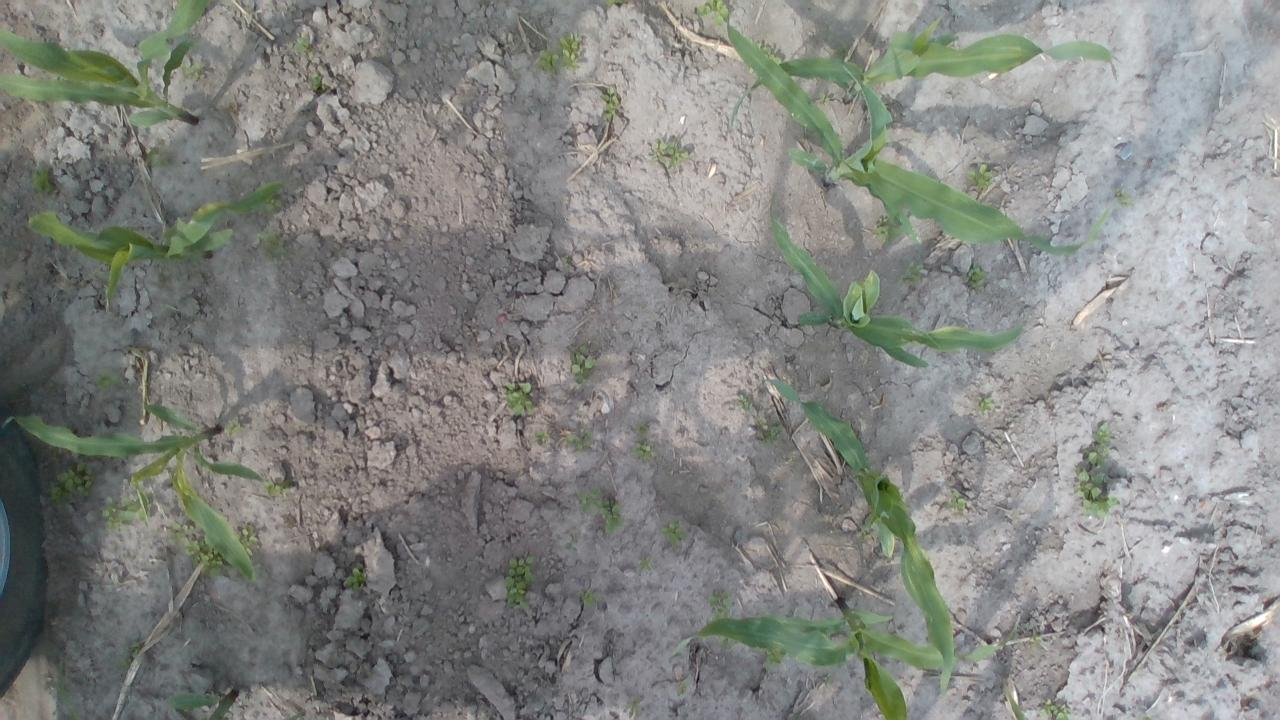Maize: (723, 14, 1122, 260), (759, 374, 958, 700), (0, 402, 277, 590), (767, 198, 1030, 373), (25, 178, 288, 317), (669, 616, 1002, 714), (2, 0, 222, 130), (171, 687, 241, 719)
Weeds: (162, 522, 259, 577), (1078, 424, 1120, 516), (98, 478, 152, 530), (53, 652, 88, 717), (44, 467, 91, 510), (536, 32, 582, 72), (504, 556, 534, 612), (580, 496, 621, 527), (649, 139, 690, 168), (749, 37, 786, 65), (504, 384, 534, 415), (752, 423, 782, 452), (175, 54, 208, 80), (696, 0, 730, 22), (258, 232, 284, 260), (710, 591, 734, 620), (603, 84, 621, 121), (634, 428, 654, 461), (148, 148, 175, 170), (574, 352, 596, 378), (662, 521, 690, 540), (343, 570, 369, 590), (570, 431, 592, 453), (904, 261, 926, 283), (969, 164, 993, 184), (33, 168, 53, 190), (1044, 705, 1072, 720), (94, 371, 117, 388), (266, 479, 288, 496), (874, 219, 893, 238), (968, 269, 986, 289), (954, 491, 968, 514), (768, 650, 788, 666), (292, 37, 309, 55), (981, 394, 996, 410), (309, 76, 323, 92), (741, 395, 754, 412), (638, 559, 652, 573), (582, 589, 592, 606), (536, 434, 546, 443)
